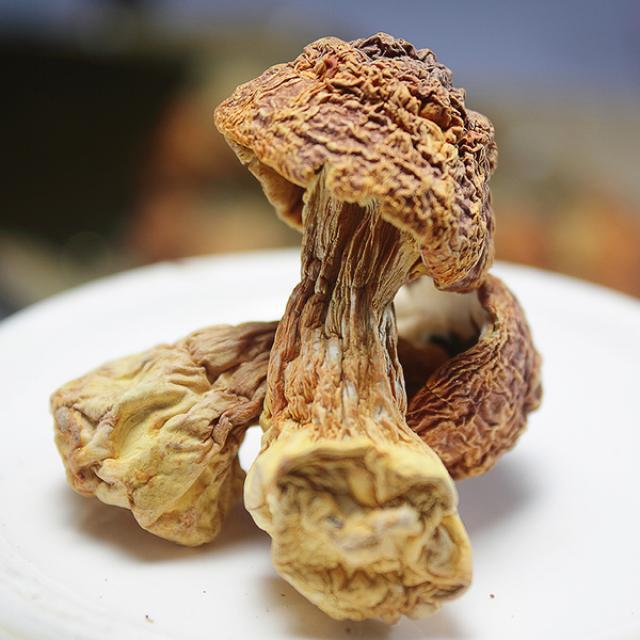Agaricus blazei Murill: (219, 34, 532, 603), (53, 271, 556, 539)
